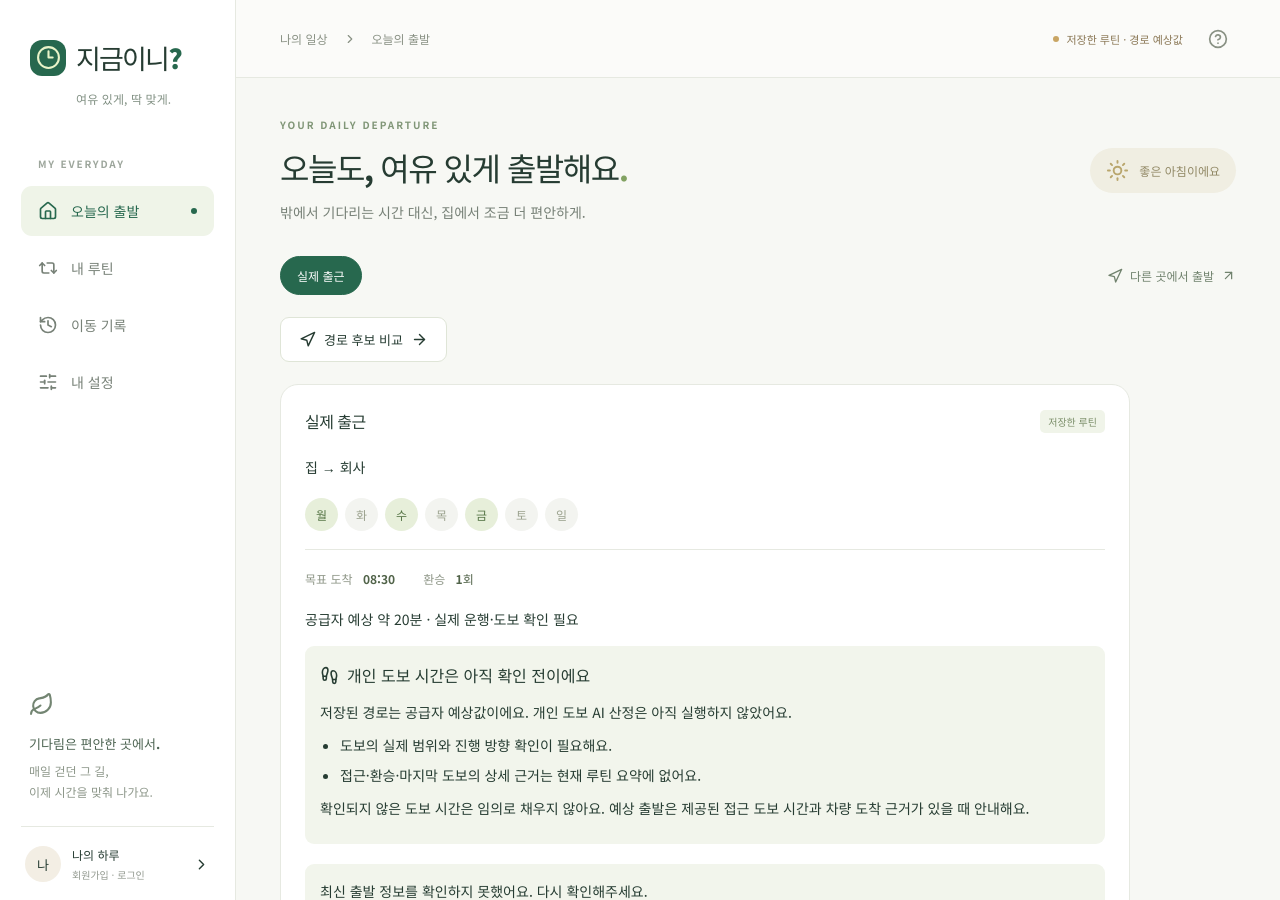
it: requires deletion confirmation, supports cancel and shows empty after 204
Expected: the heading "실제 출근" is shown, [305,409,366,433]
Click the button "내 루틴" at [118, 268], box [21,243,214,293]
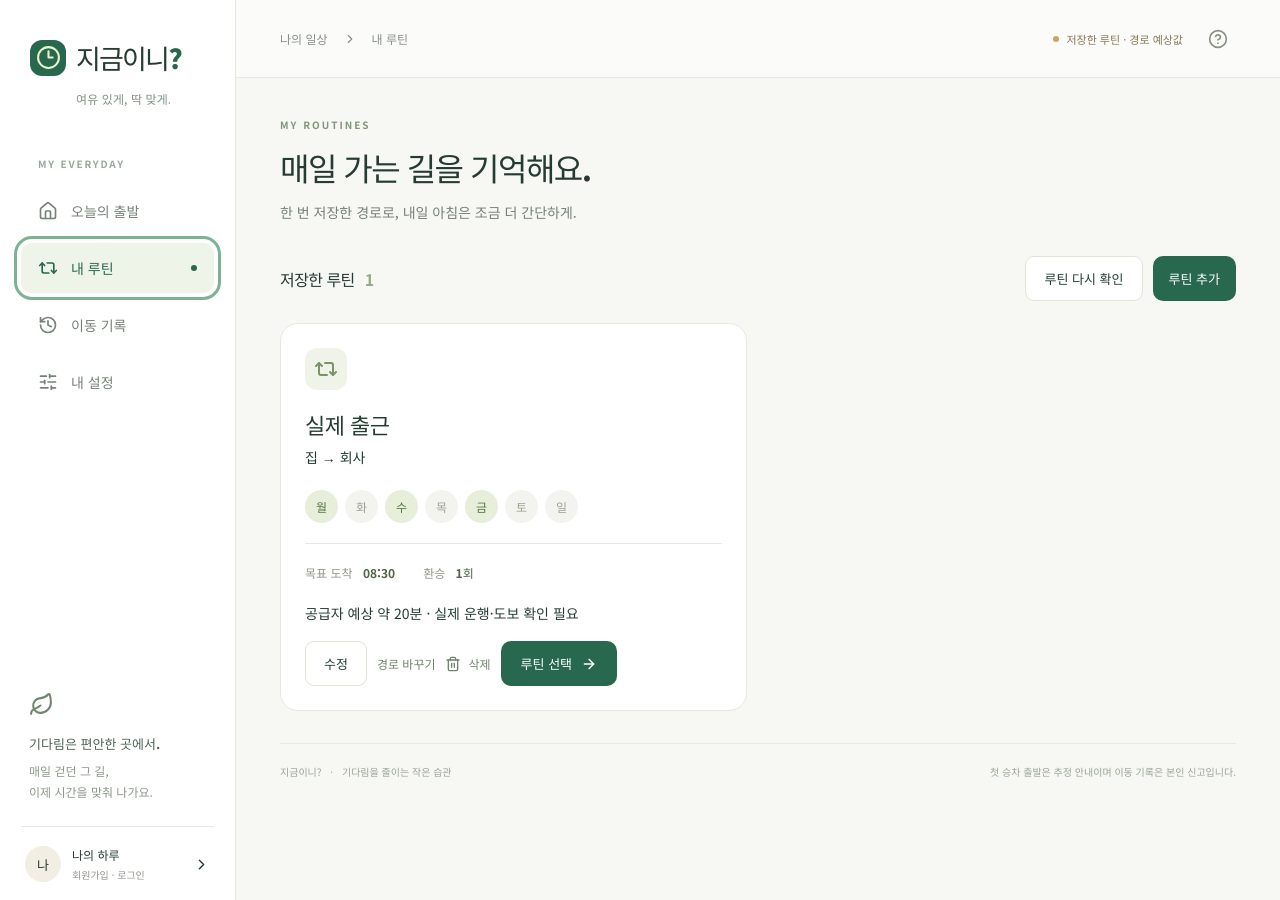
Click the button "삭제" at [468, 664], box [446,642,491,686]
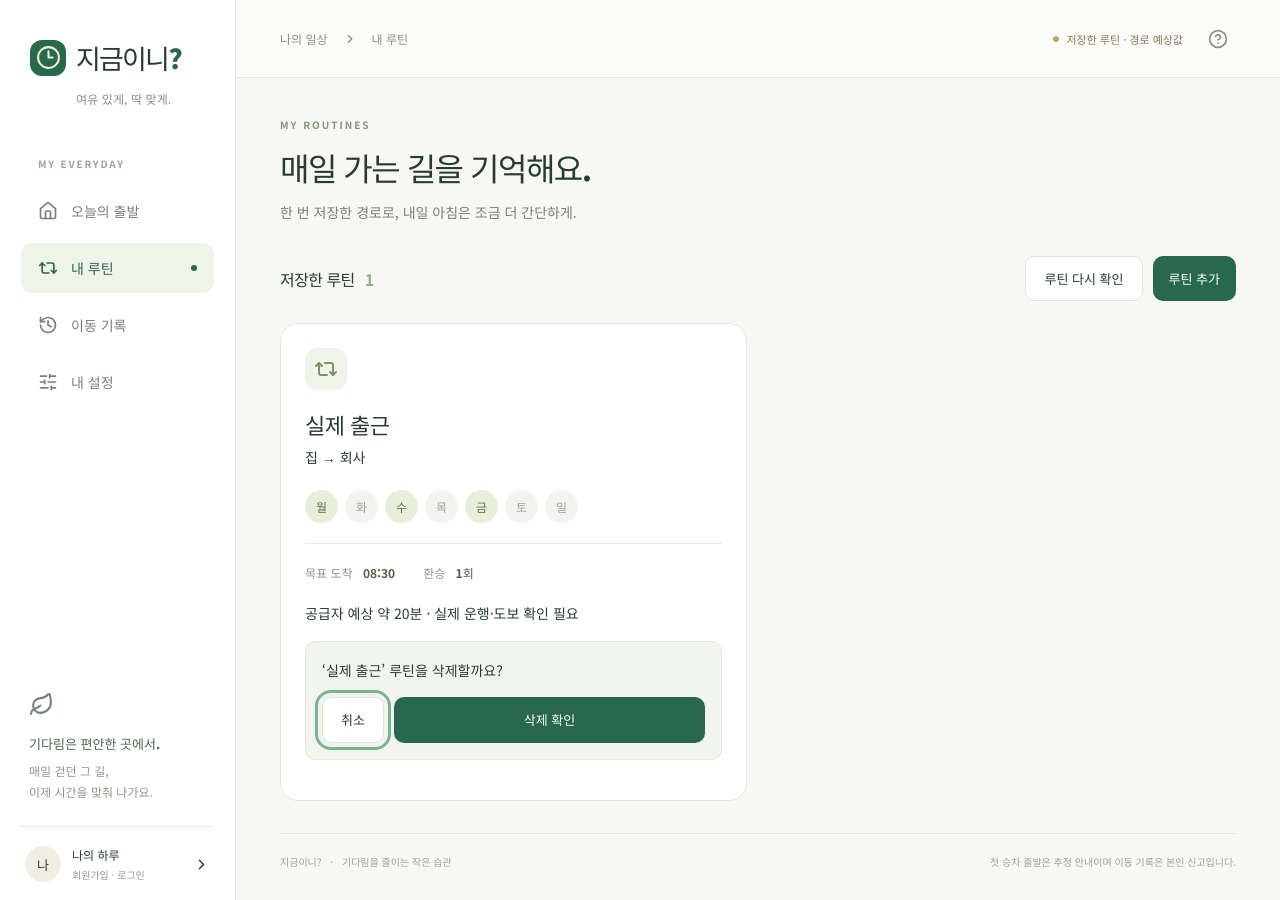
Click the button "취소" at [353, 720], box [322,696,384,742]
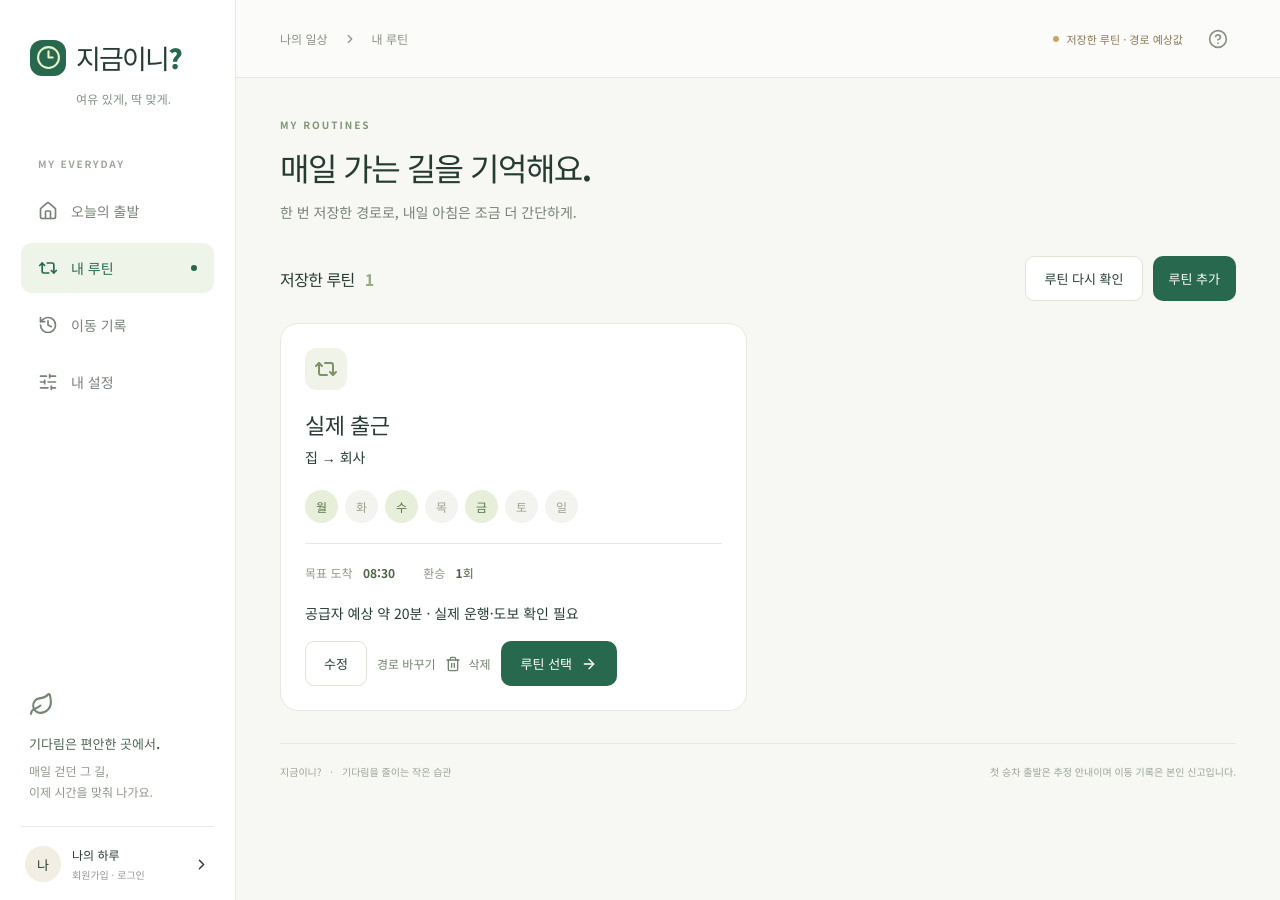
Click the button "삭제" at [468, 664], box [446,642,491,686]
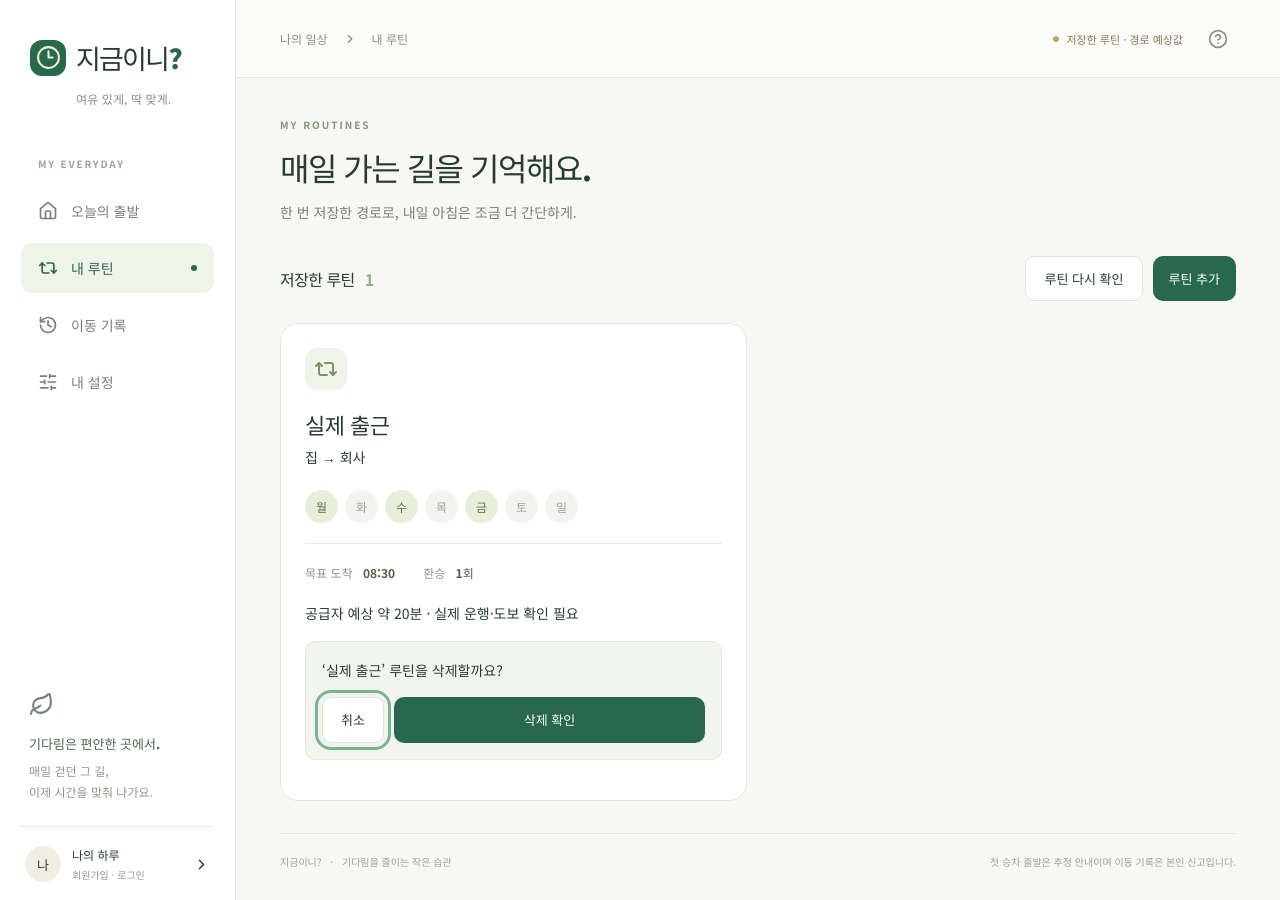
Click the button "삭제 확인" at [549, 720], box [394,696,705,742]
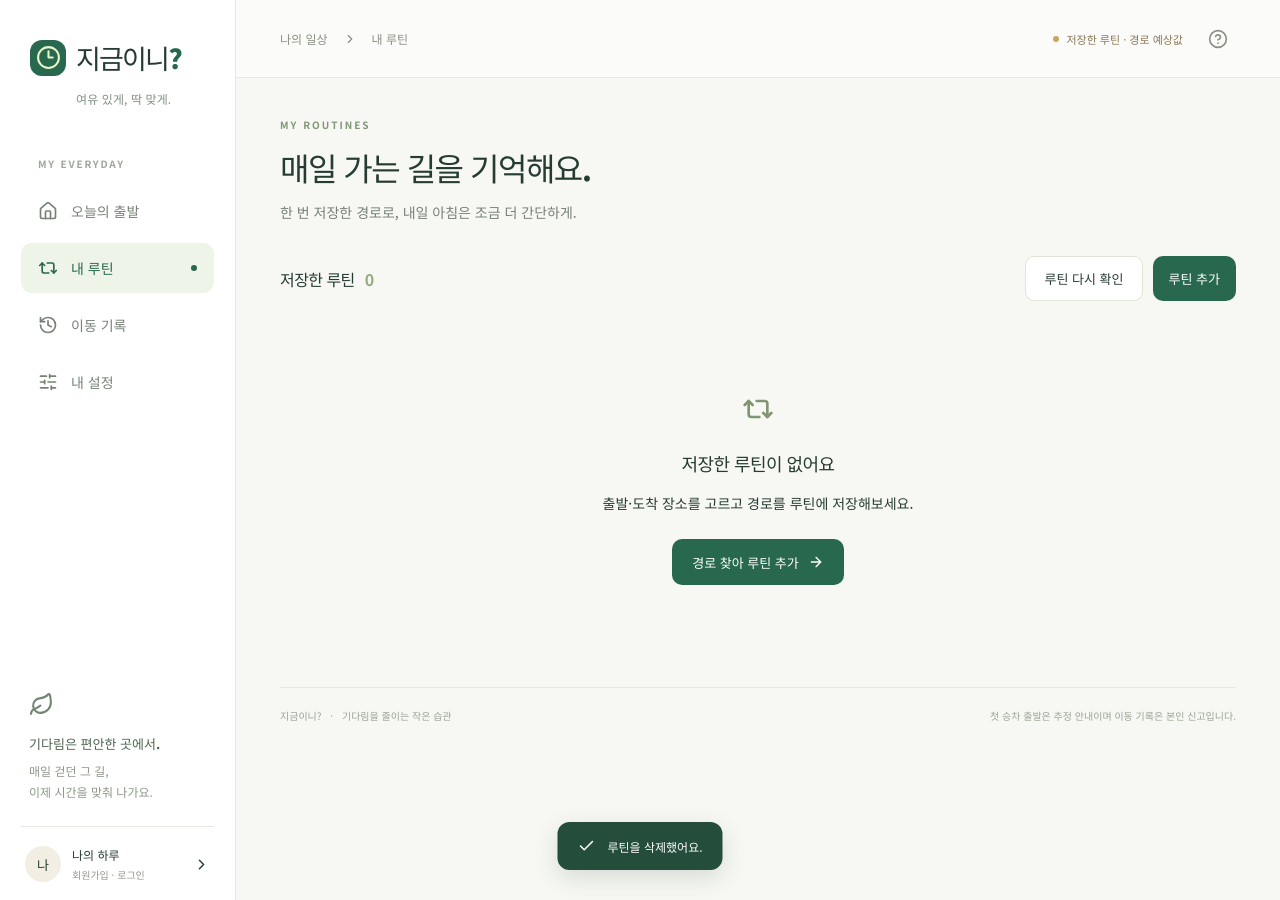
Expected: the heading "저장한 루틴이 없어요" is shown, [682,450,835,476]
